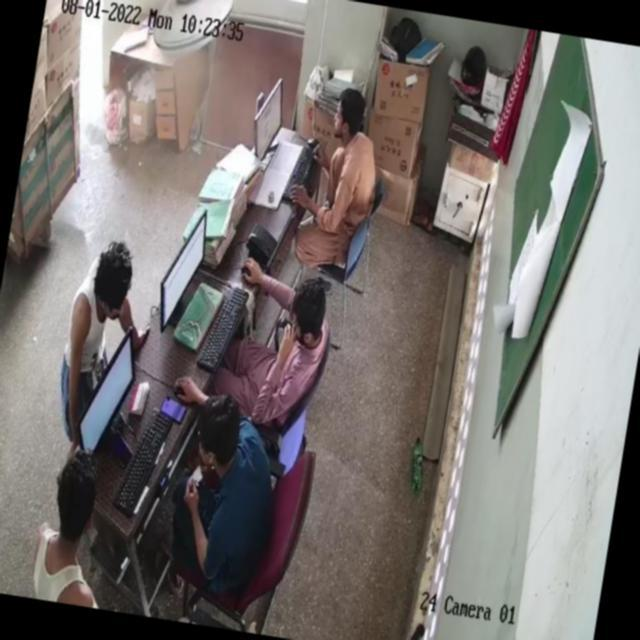person: (152, 394, 290, 594), (228, 276, 342, 422), (51, 248, 140, 420), (30, 458, 113, 608), (304, 90, 376, 260)
